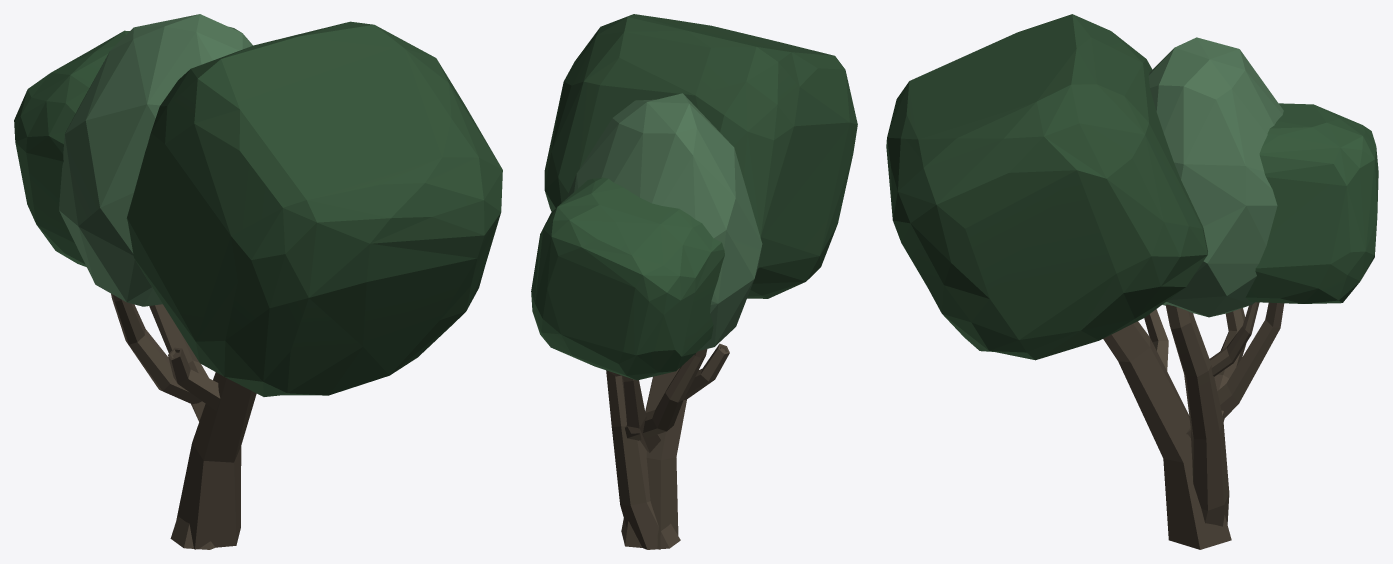
Rendered from Tree14.glb.
The picture shows the model from 3 angles, left to right: view 1: azimuth 30°, elevation 25°; view 2: azimuth 150°, elevation 25°; view 3: azimuth 270°, elevation 25°; orthographic projection. The views are drawn at different scales.
Visible parts, largest first — view 1: Tree_11, Tree; view 2: Tree_11, Tree; view 3: Tree_11, Tree.
Part boxes in pixels (x1,y1,x2,y2): Tree_11: (14,21,502,549); Tree: (59,14,252,549); Tree_11: (531,14,857,549); Tree: (566,93,762,549); Tree_11: (886,14,1378,549); Tree: (1148,37,1283,526).
Bounding box in the file's own units: 2.17 × 3.97 × 3.57.
Materials: 1 (1 with a texture image).
